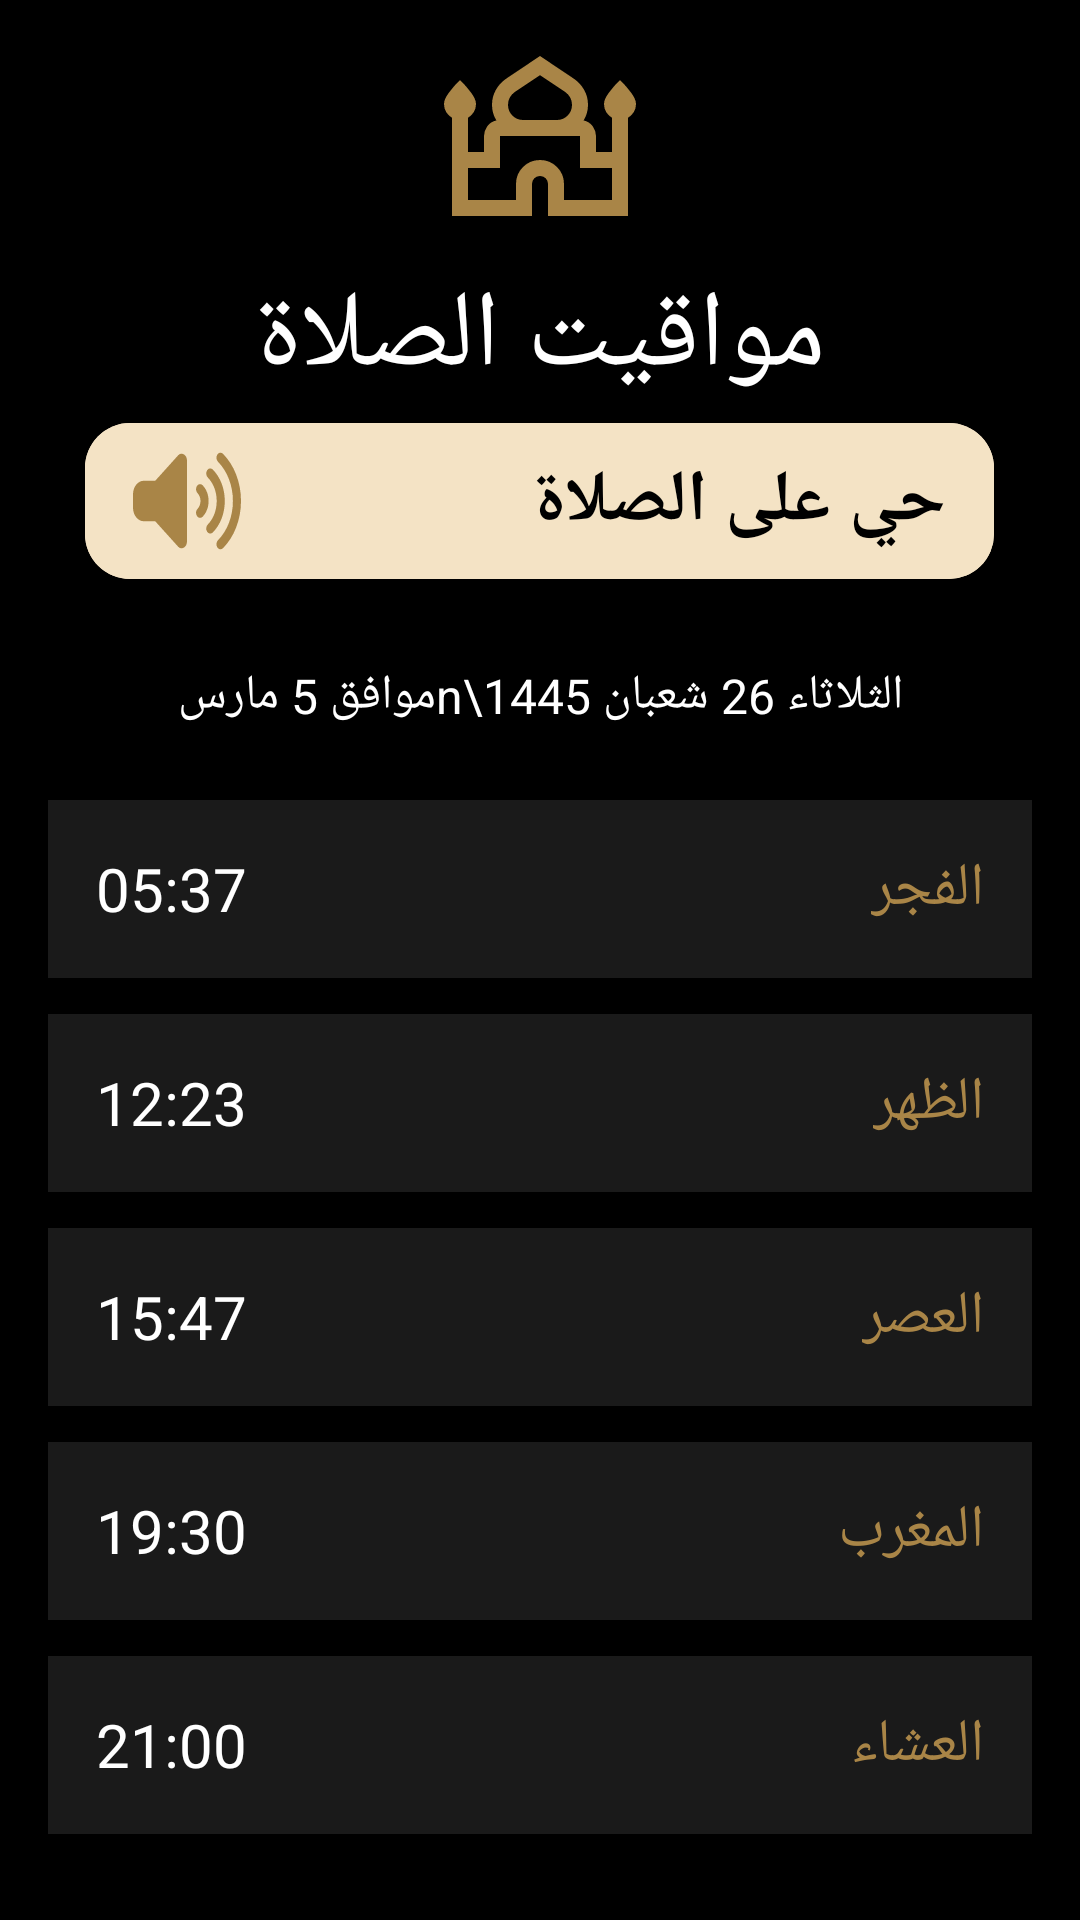

Icons on this 1080w x 1920h Android screen, each with the point to tap as [x,y]:
mosque: [540,136]
